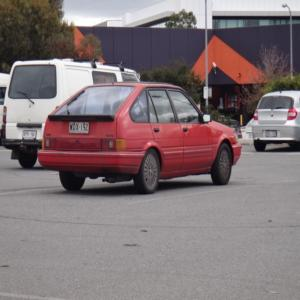Vehicle-registration-plate: (70, 121, 89, 135), (23, 131, 39, 142), (267, 128, 278, 138)
